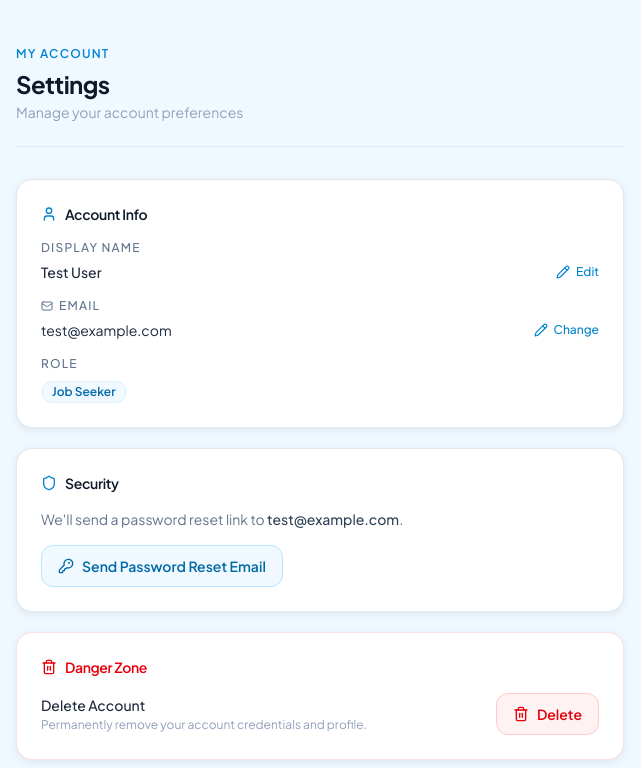
Test: SettingsPage › cancels delete and returns to idle
This screenshot has width=641, height=768.
Click the button "Delete".
click(547, 714)  # box x1=496 y1=693 x2=599 y2=735
(page scrolled)
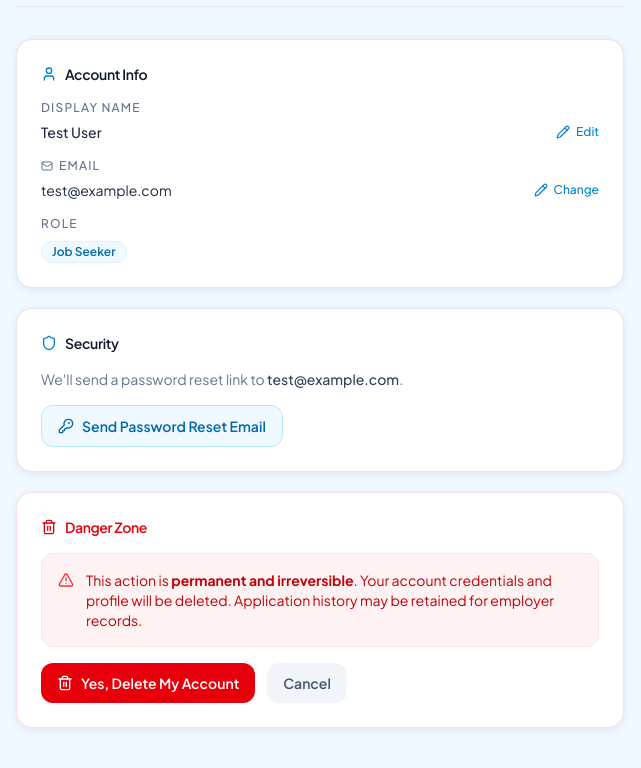
Click the button "Cancel".
click(307, 683)  # box x1=267 y1=663 x2=347 y2=703
(page scrolled)
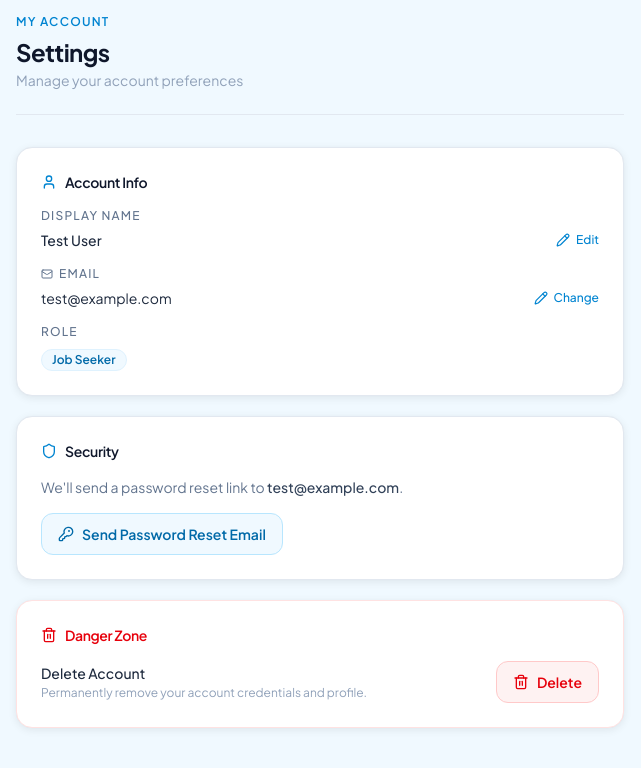
Result: the button "Yes, Delete My Account" is gone
